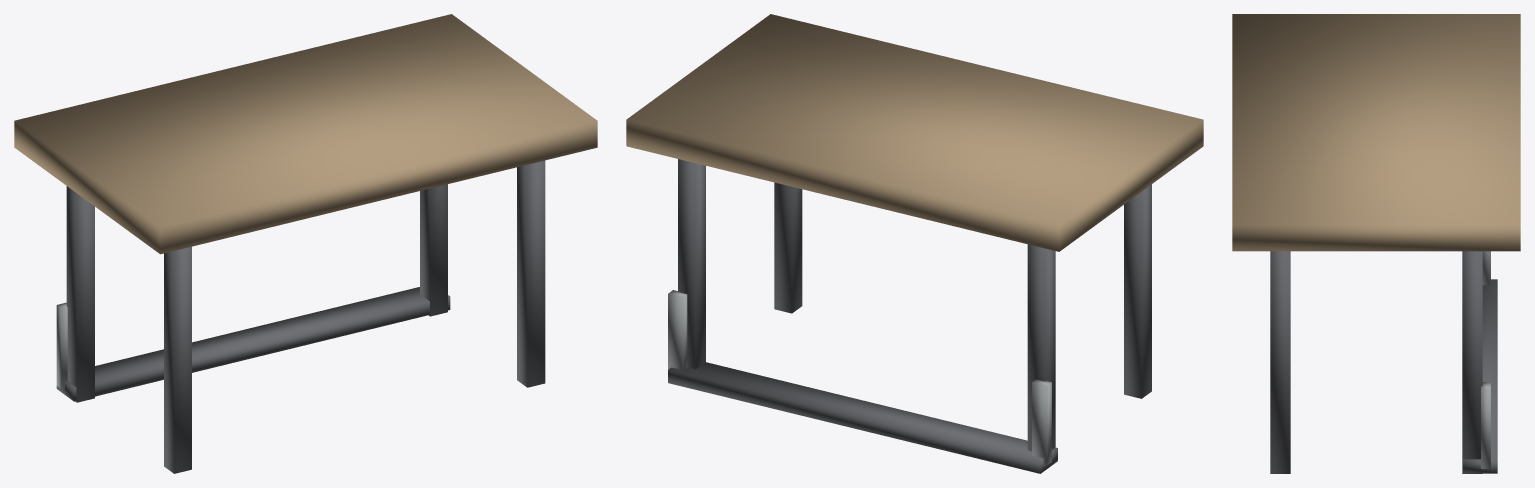
The model's file is dining_table__reinforced.glb.
The picture shows the model from 3 angles, left to right: view 1: azimuth 30°, elevation 25°; view 2: azimuth 150°, elevation 25°; view 3: azimuth 270°, elevation 25°; orthographic projection.
Parts seen in each view (by area): view 1: world; view 2: world; view 3: world.
Boxes of the visible parts, <box> form: world: <box>14,14,597,473</box>; world: <box>626,14,1203,473</box>; world: <box>1232,14,1520,473</box>.
Size of the model in its own units: 1.39 by 0.816 by 0.8034.
